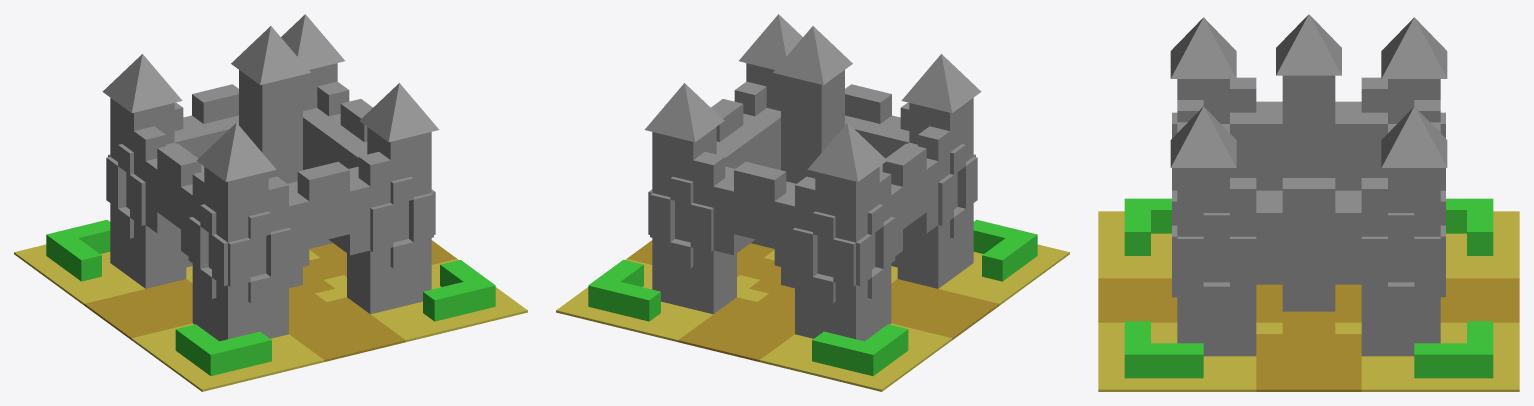
File: TownHall1-lvl1.fbx
3 renders of one model, left to right at view 1: azimuth 30°, elevation 25°; view 2: azimuth 150°, elevation 25°; view 3: azimuth 270°, elevation 25°, orthographic. The views are drawn at different scales.
Parts seen in each view (by area): view 1: MainCastle; view 2: MainCastle; view 3: MainCastle.
Part boxes in pixels (<box>): MainCastle: <box>14,14,527,391</box>; MainCastle: <box>556,14,1069,391</box>; MainCastle: <box>1098,14,1519,391</box>.
Size of the model in its own units: 400 by 303 by 400.
